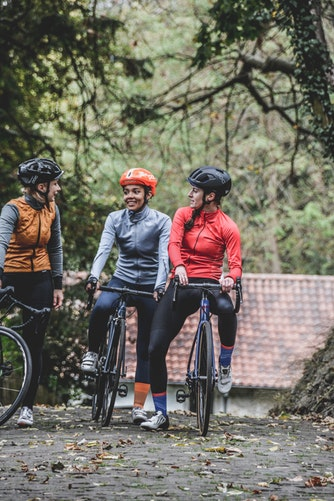helmet: (18, 155, 67, 182), (114, 166, 161, 190), (191, 169, 232, 188)
